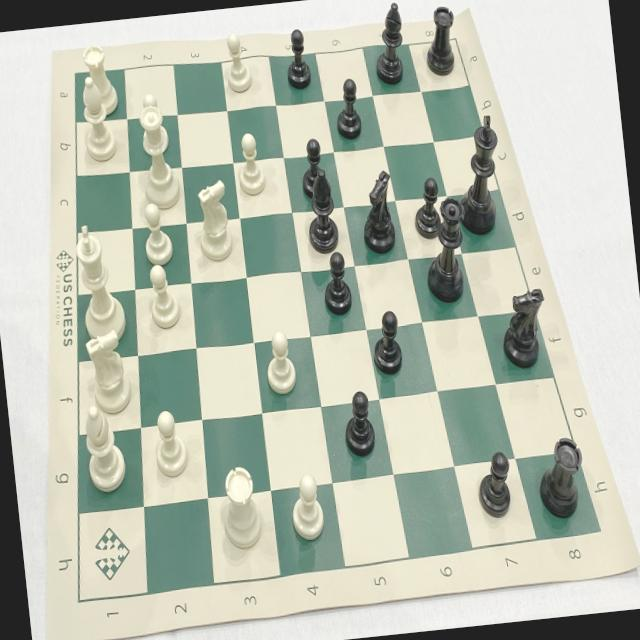black-bishop: (295, 168, 343, 260), (369, 0, 410, 87)
black-king: (450, 109, 510, 239)
black-knight: (498, 286, 552, 370), (355, 166, 400, 258)
black-pawn: (338, 384, 380, 462), (472, 446, 516, 520), (367, 306, 405, 380), (296, 135, 332, 205), (320, 248, 355, 318), (330, 74, 364, 142), (280, 26, 314, 91), (410, 174, 442, 243)
black-queen: (421, 194, 474, 304)
black-rook: (532, 430, 589, 522), (419, 0, 462, 81)
white-bishop: (78, 403, 130, 495), (76, 74, 120, 164)
white-king: (72, 220, 130, 348)
white-knight: (78, 327, 135, 416), (190, 176, 238, 266)
white-pawn: (284, 469, 328, 545), (149, 407, 190, 481), (259, 326, 299, 399), (142, 262, 184, 330), (138, 202, 177, 268), (232, 129, 268, 197), (220, 30, 256, 97), (138, 90, 171, 152)
white-queen: (130, 103, 186, 213)
white-rook: (215, 461, 267, 554), (82, 40, 120, 121)
